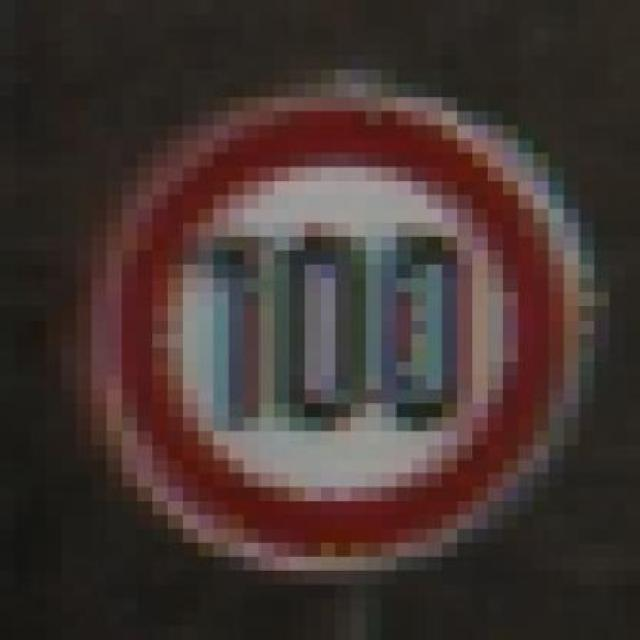forb_speed_over_100: (103, 102, 565, 562)
